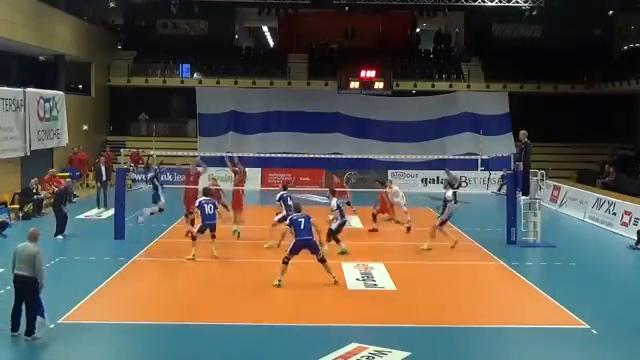attacco: (134, 157, 169, 226)
muro: (223, 149, 249, 244)
